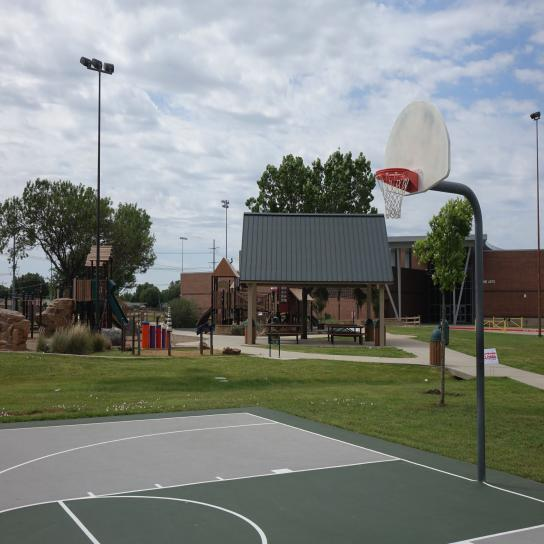basketball-hoop: (375, 166, 412, 220)
